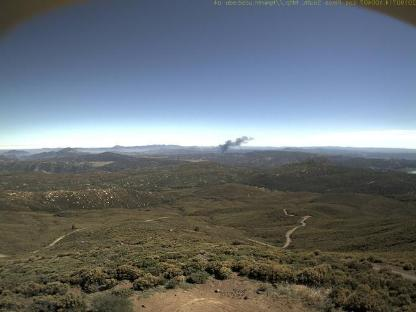smoke: (215, 133, 257, 155)
